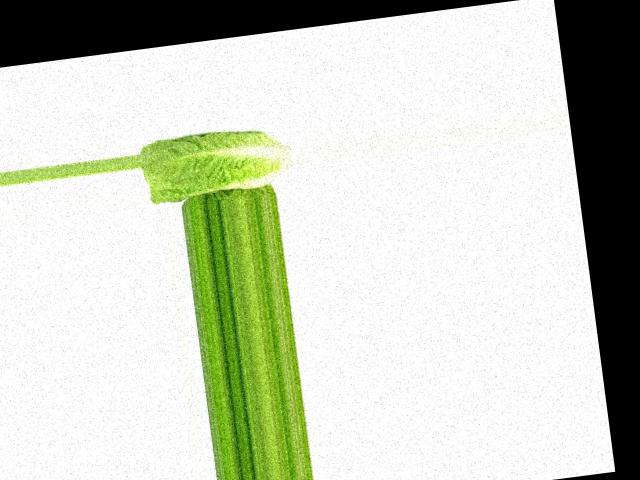lettuce: (135, 112, 294, 203)
